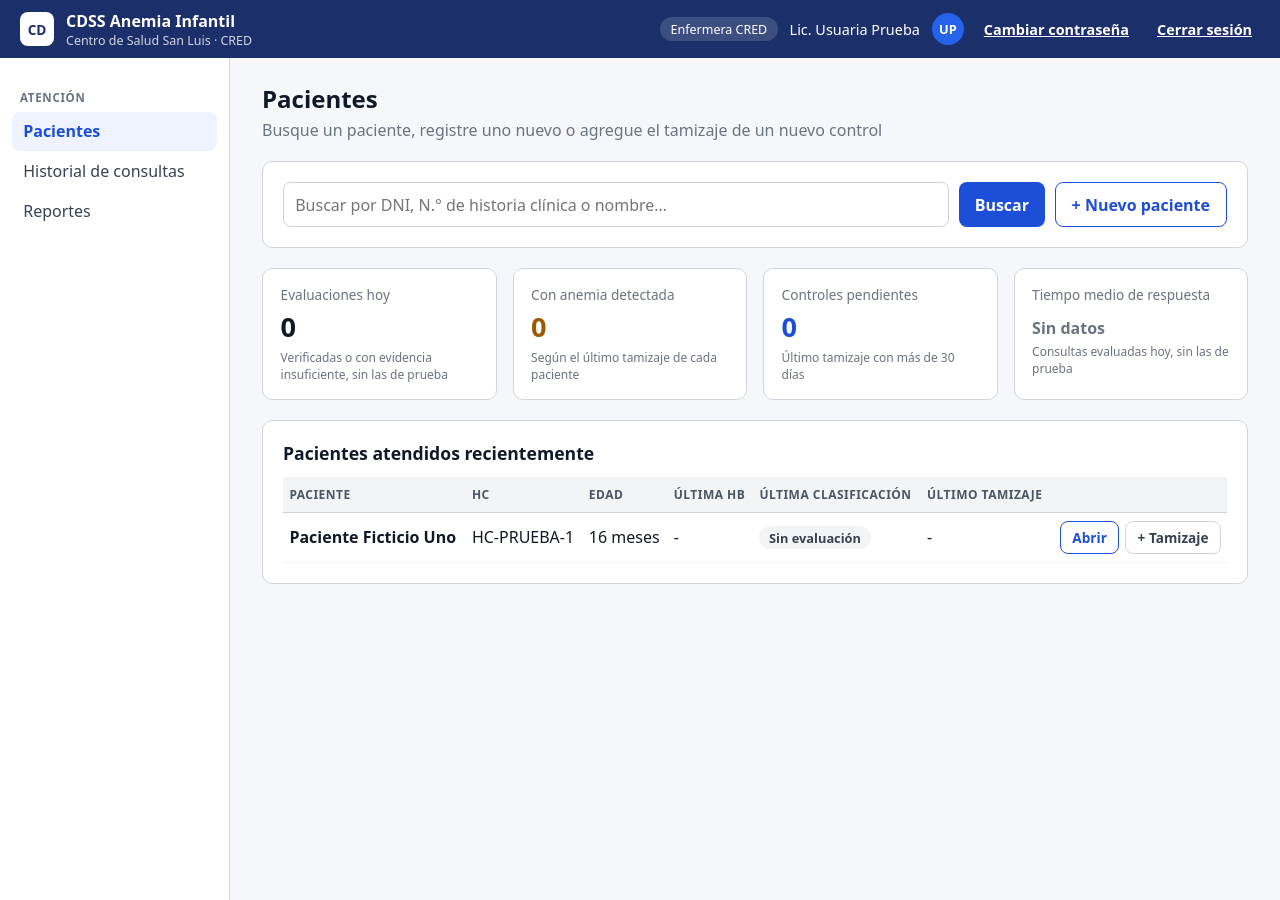
Test: accesos a M04 › «Abrir» en el panel de pacientes (M02) abre la consulta clínica
Note: El nombre accesible empieza por el texto visible y nombra al paciente («Abrir: …»).
Click the button with aria-label "Abrir: Paciente Ficticio Uno": (1090, 538) [1060, 521, 1119, 554]
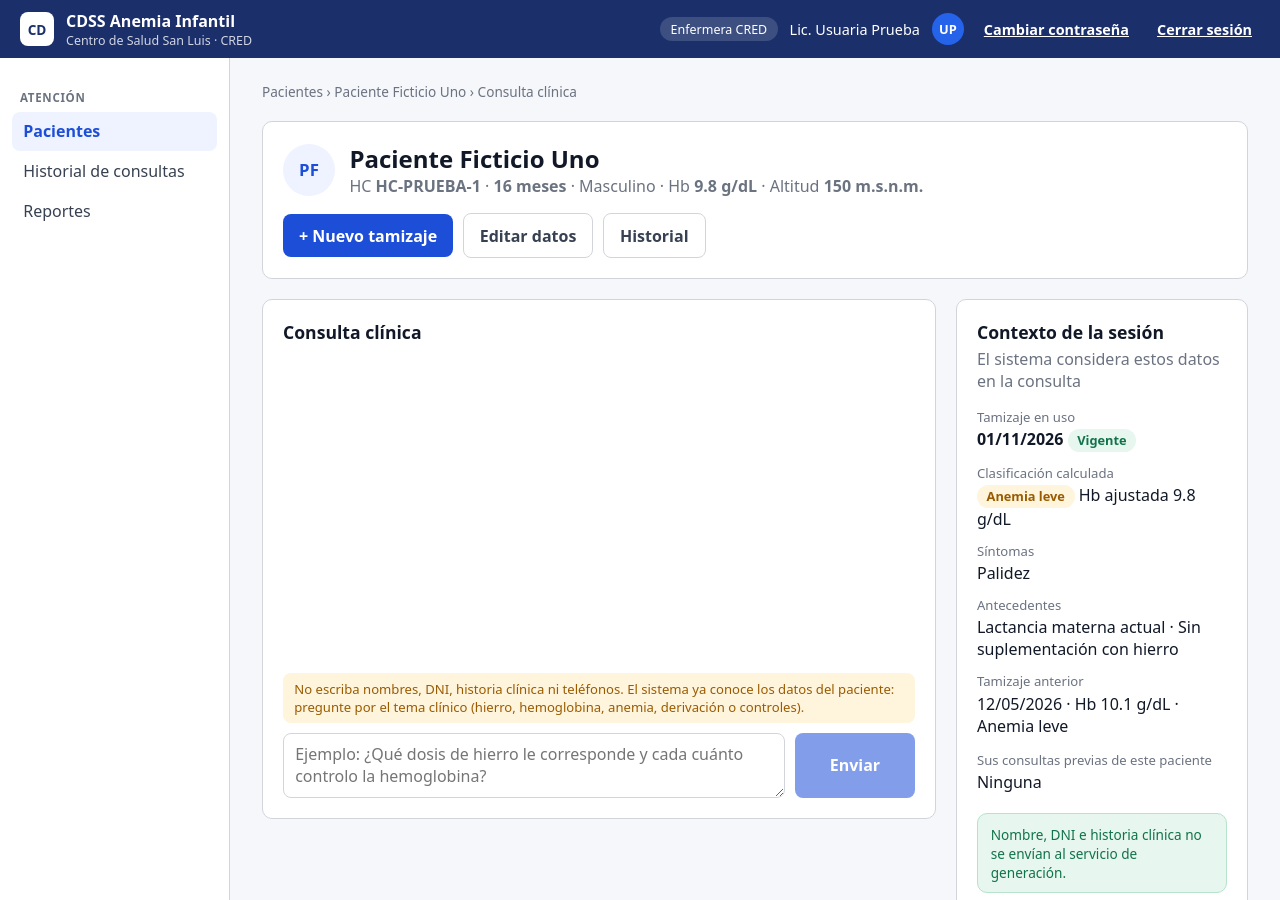
Expected: the heading "Consulta clínica" is shown, [283, 320, 422, 344]
